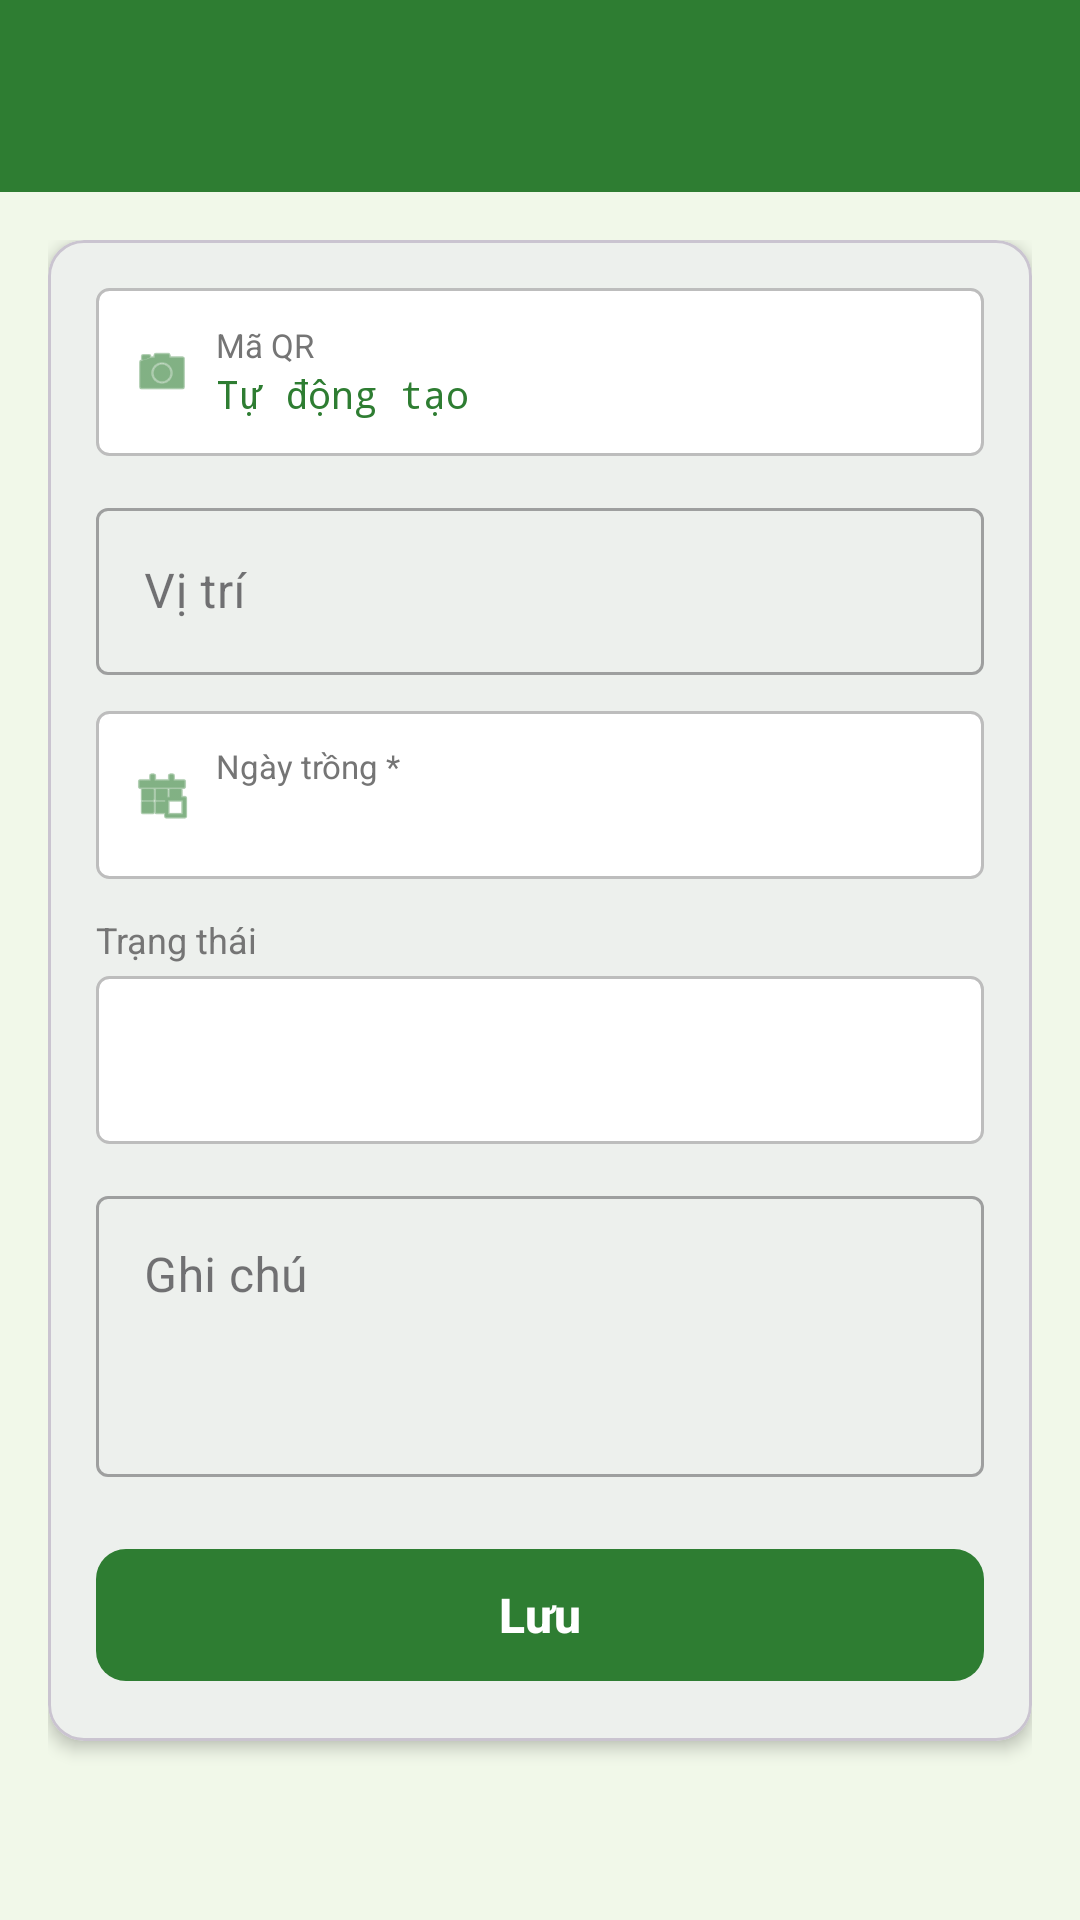

Where to tap for icons on this 1080w x 1920h app screen, as (x,y):
camera: (162,371)
today: (162,796)
